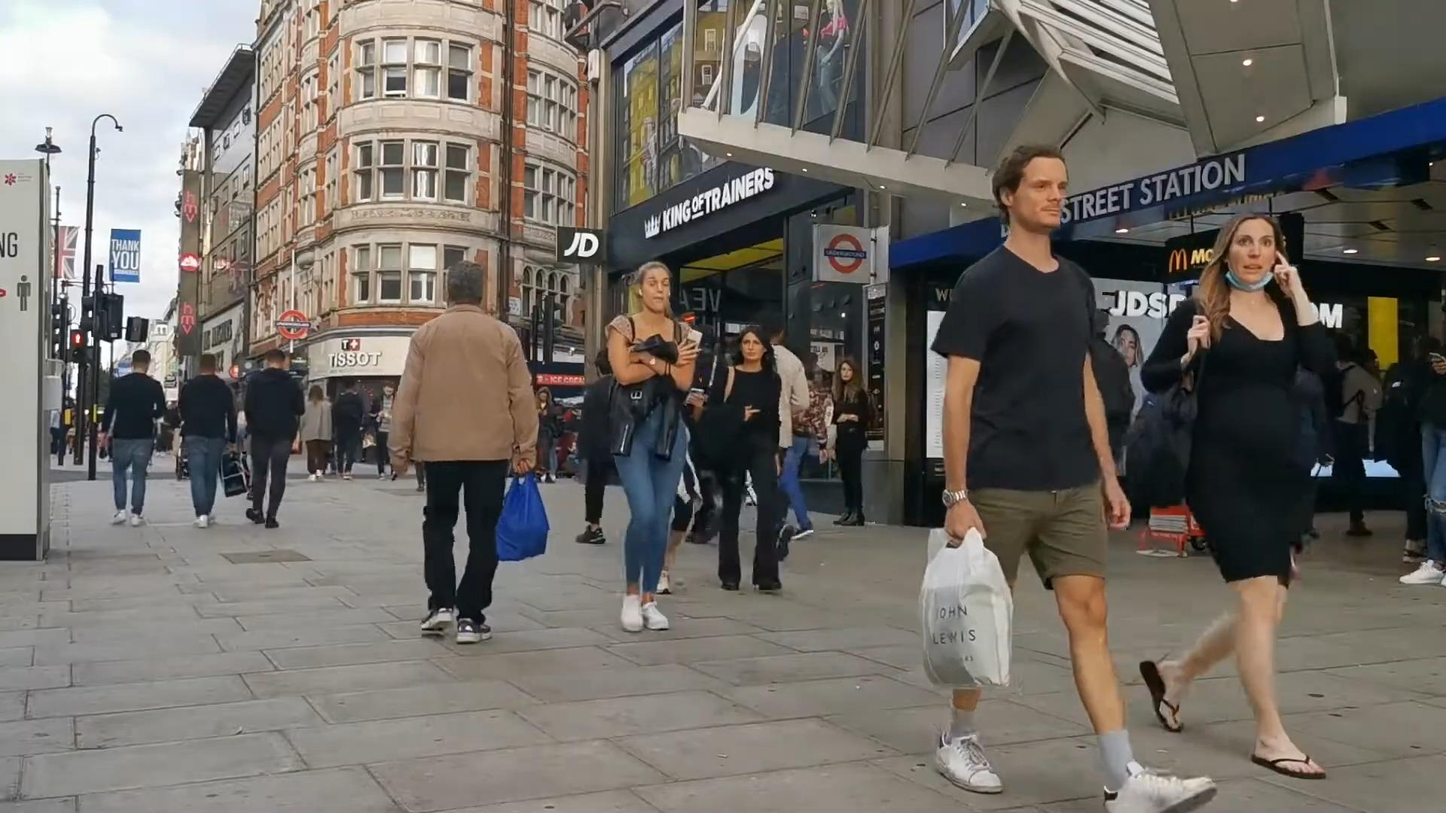no-helmet: (993, 145, 1070, 229), (1212, 213, 1288, 292), (636, 261, 673, 312), (445, 260, 483, 305), (736, 325, 772, 361), (833, 358, 860, 382), (264, 349, 286, 369), (132, 350, 151, 373), (200, 353, 217, 376)
